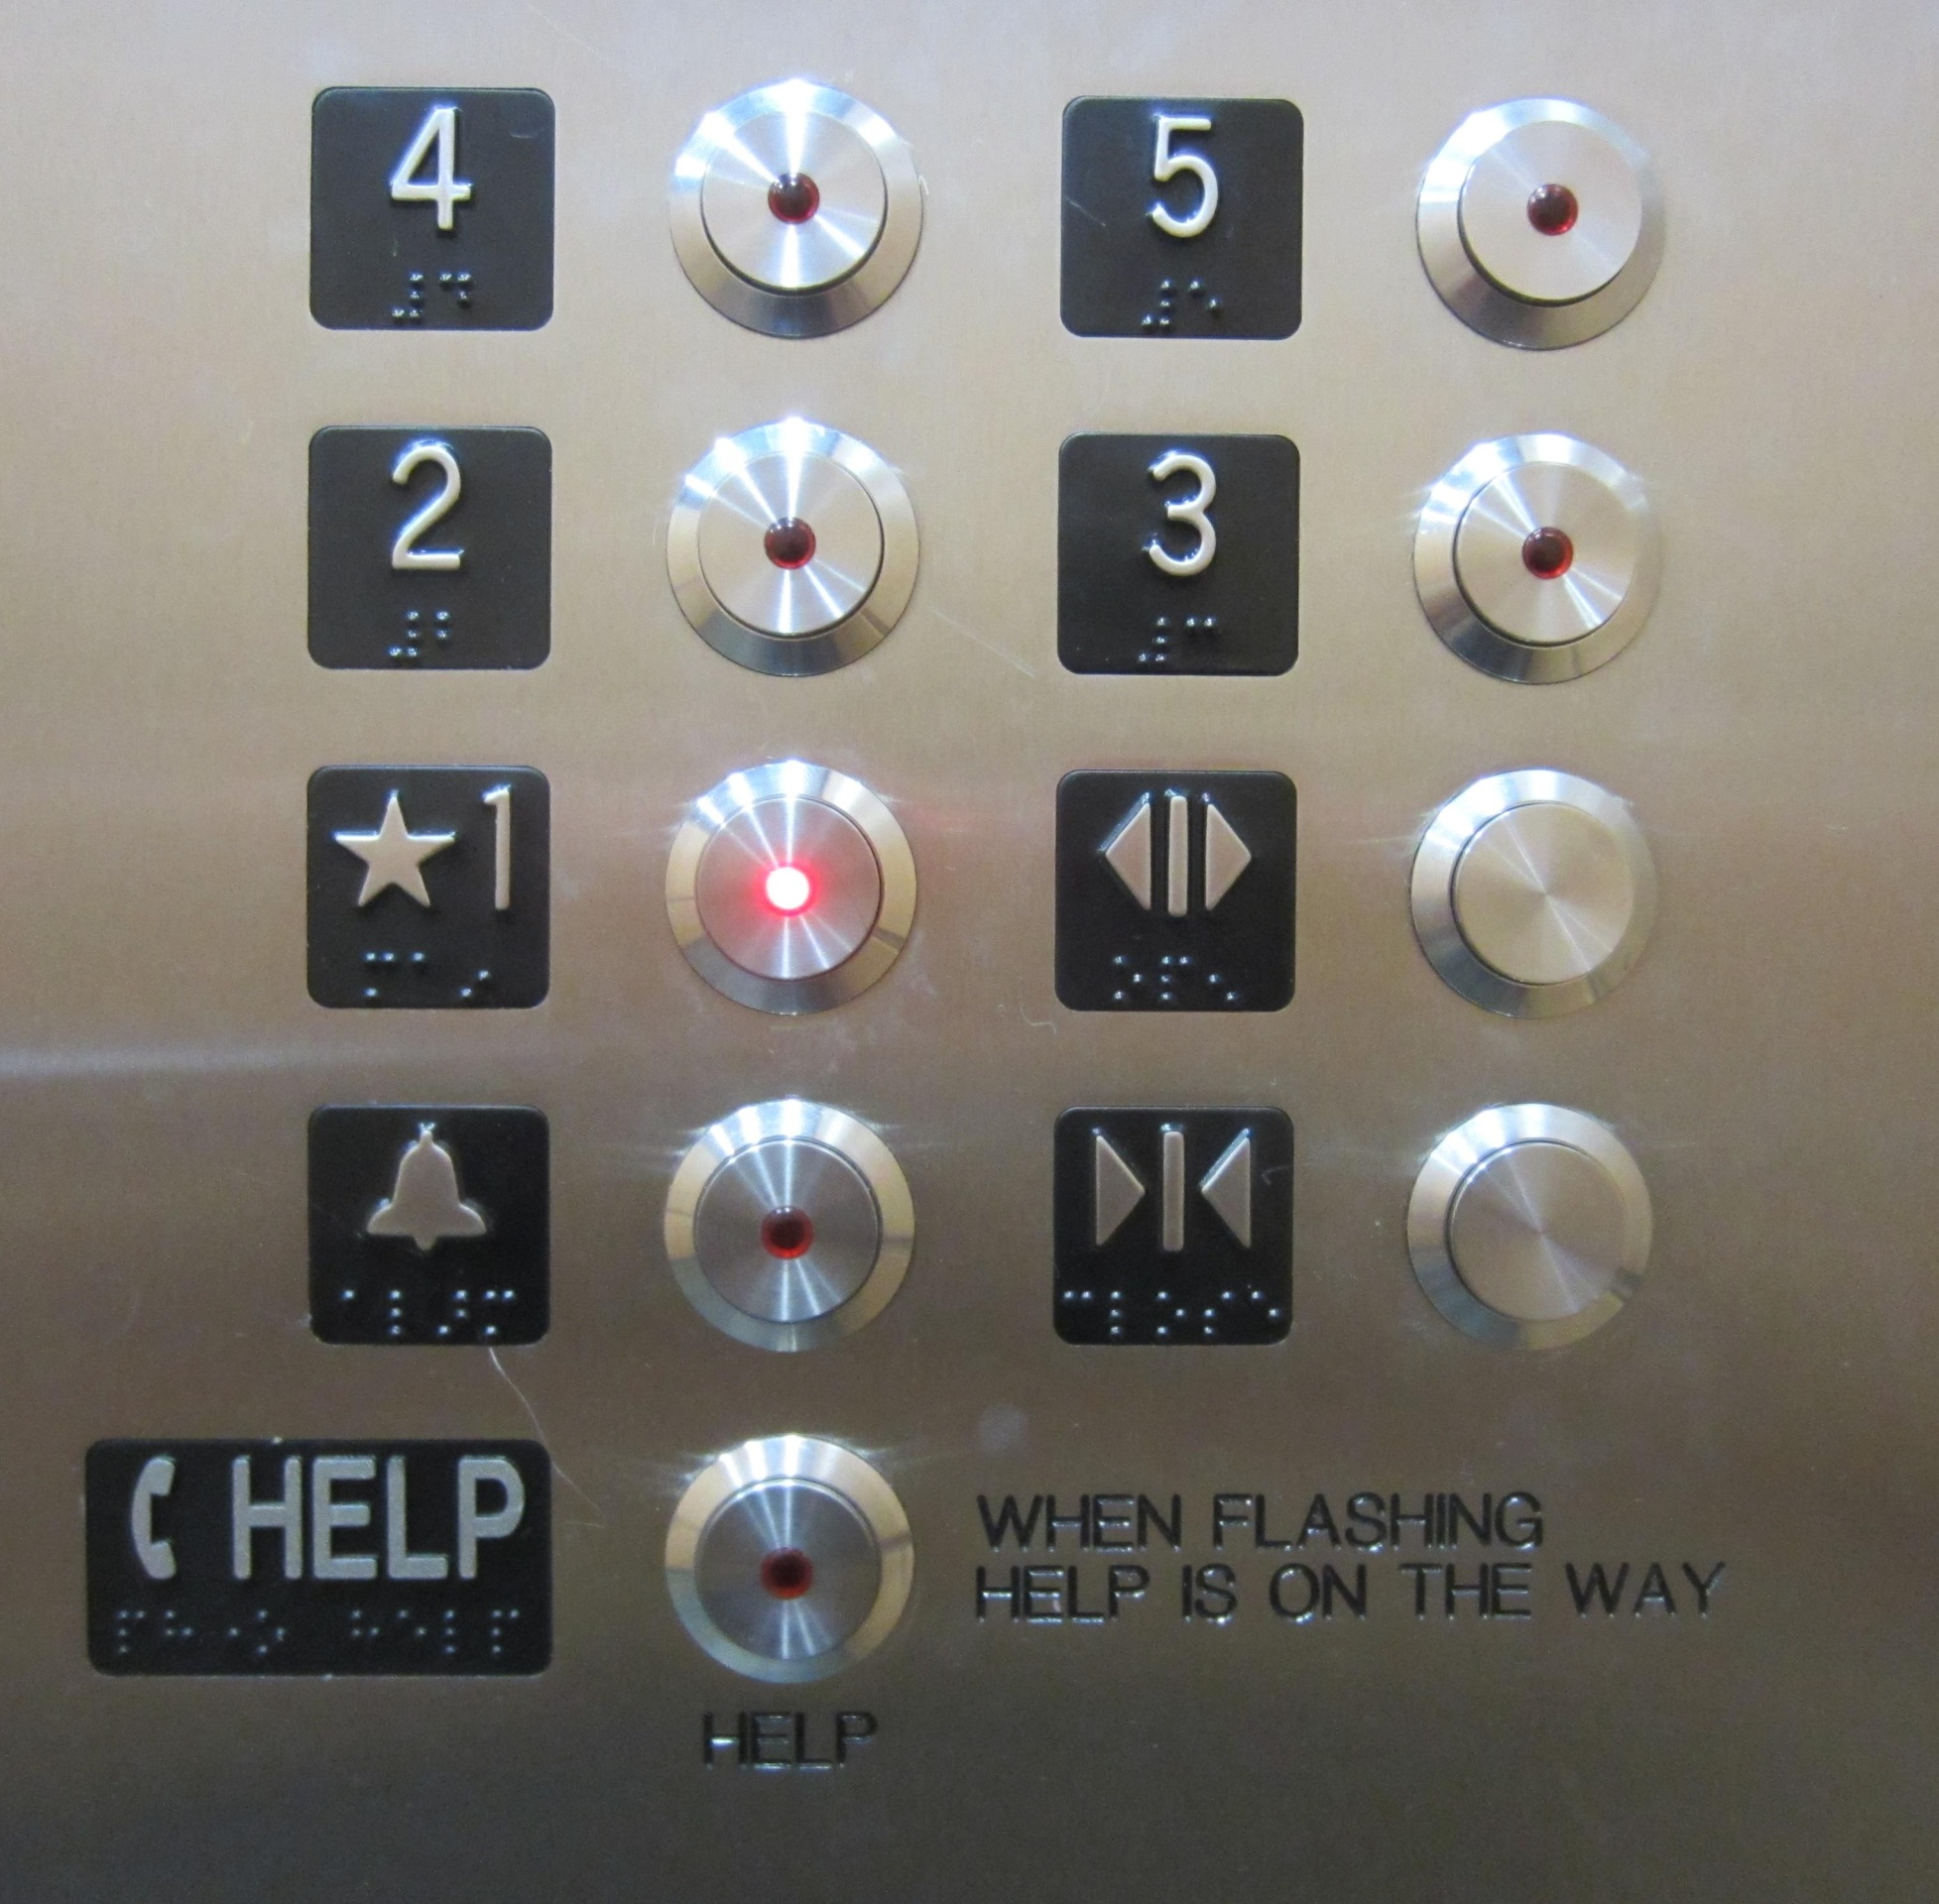2: (305, 424, 556, 666)
3: (1051, 431, 1306, 678)
4: (312, 89, 568, 335)
5: (1051, 89, 1313, 340)
alarm: (296, 1102, 563, 1363)
call: (75, 1428, 565, 1679)
close: (1050, 1102, 1301, 1350)
empty: (650, 410, 928, 678), (661, 71, 928, 349), (661, 751, 919, 1022), (659, 1093, 919, 1358), (1411, 96, 1669, 361), (1402, 431, 1669, 682), (1405, 1093, 1660, 1355), (656, 1431, 919, 1684), (1414, 765, 1665, 1022)
open: (1050, 765, 1306, 1022)
s1: (296, 755, 565, 1017)
